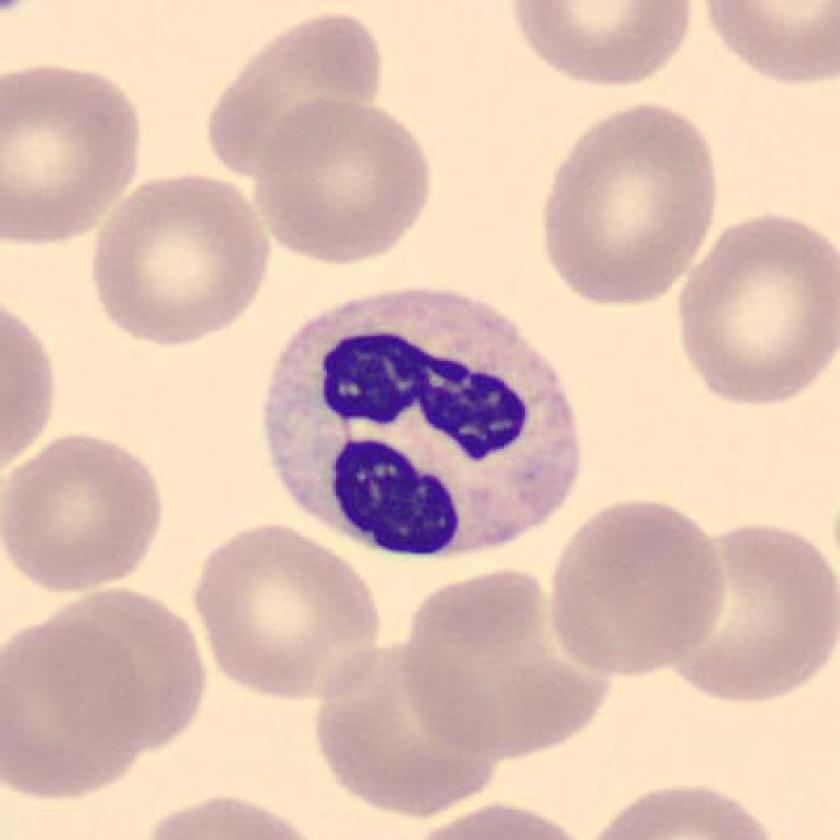neutrophil: (267, 291, 585, 559)
